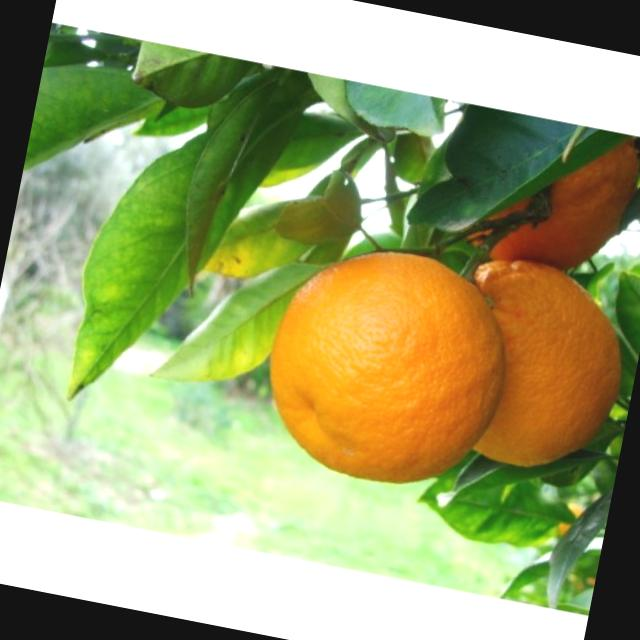orange: (246, 223, 532, 508), (392, 241, 637, 504)
